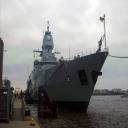Fragata: (27, 21, 111, 120)
